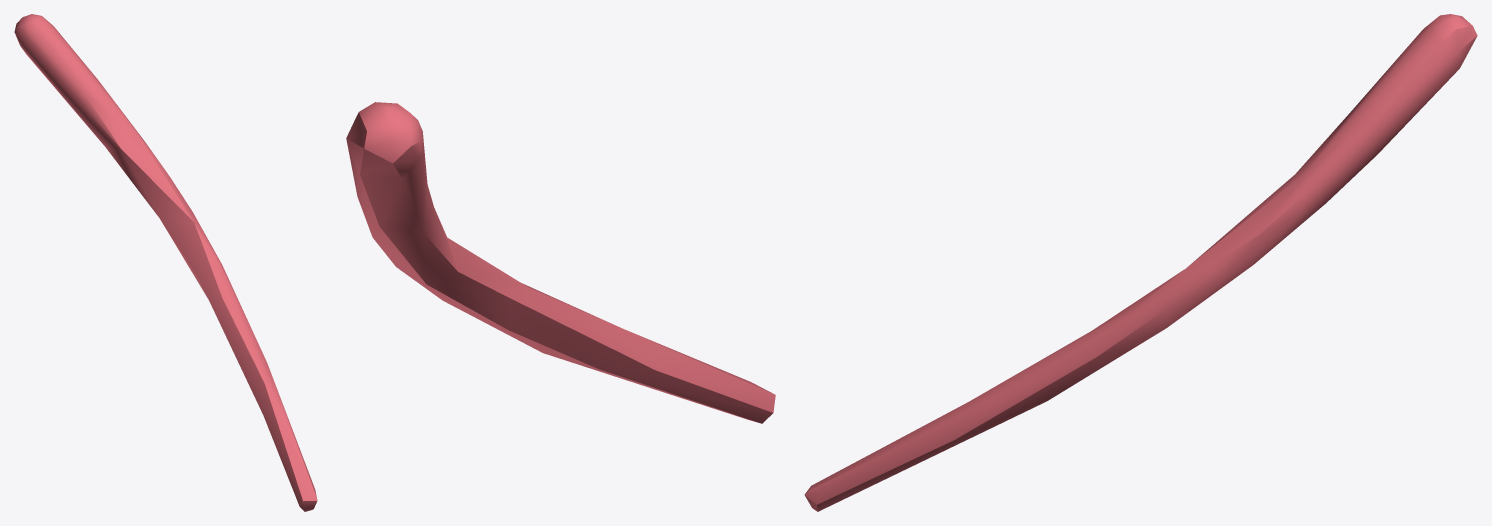
The model's file is fma8669_fj2935.glb.
3 renders of one model, left to right at view 1: azimuth 30°, elevation 25°; view 2: azimuth 150°, elevation 25°; view 3: azimuth 270°, elevation 25°, orthographic. The views are drawn at different scales.
Parts seen in each view (by area): view 1: FMA8669_FJ2935; view 2: FMA8669_FJ2935; view 3: FMA8669_FJ2935.
Part boxes in pixels (left/top/right/bottom): FMA8669_FJ2935: left=14, top=14, right=317, bottom=511; FMA8669_FJ2935: left=346, top=102, right=775, bottom=423; FMA8669_FJ2935: left=804, top=14, right=1477, bottom=511.
Size of the model in its own units: 0.00788 by 0.0271 by 0.0357.
